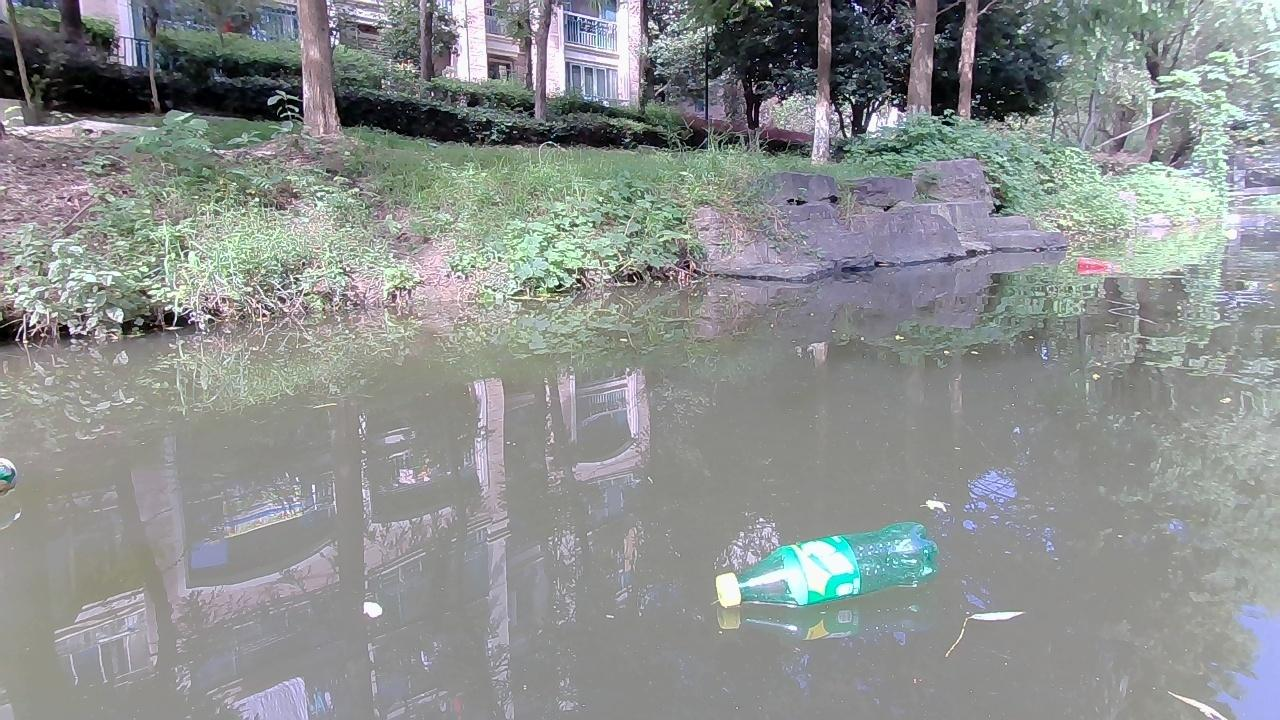bottle: (708, 520, 941, 607), (1073, 257, 1126, 274)
